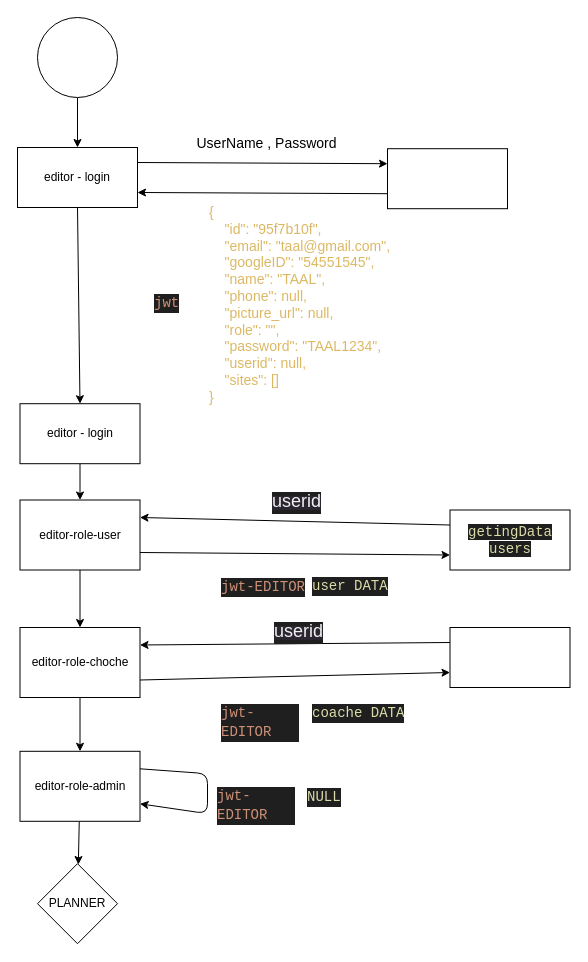
Image size: 588x962. Some labels were removed from this diagram. Each missing label, with the centre of its shape:
getingData coaches: the point at 509,657
login: the point at 447,178
Start: the point at 77,57
